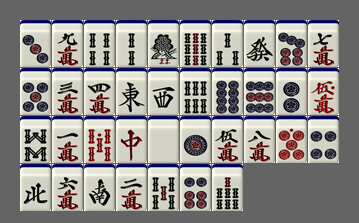0m: (308, 68, 339, 115)
0p: (276, 116, 307, 163)
0s: (84, 116, 115, 163)
1m: (52, 116, 83, 163)
1p: (180, 116, 211, 163)
1s: (148, 20, 179, 67)
1z: (116, 68, 147, 115)
2m: (116, 164, 147, 211)
2p: (276, 68, 307, 115)
2s: (116, 20, 147, 67)
2z: (84, 164, 115, 211)
3m: (52, 68, 83, 115)
3p: (20, 20, 51, 67)
3s: (212, 20, 243, 67)
3z: (148, 68, 179, 115)
4m: (84, 68, 115, 115)
4p: (308, 116, 339, 163)
4s: (84, 20, 115, 67)
4z: (20, 164, 51, 211)
5m: (212, 116, 243, 163)
5p: (20, 68, 51, 115)
5s: (148, 164, 179, 211)
5z: (148, 116, 179, 163)
6m: (52, 164, 83, 211)
6p: (180, 164, 211, 211)
6s: (180, 68, 211, 115)
6z: (244, 20, 275, 67)
7m: (308, 20, 339, 67)
7p: (276, 20, 307, 67)
7s: (212, 164, 243, 211)
7z: (116, 116, 147, 163)
8m: (244, 116, 275, 163)
8p: (212, 68, 243, 115)
8s: (20, 116, 51, 163)
9m: (52, 20, 83, 67)
9p: (244, 68, 275, 115)
9s: (180, 20, 211, 67)
